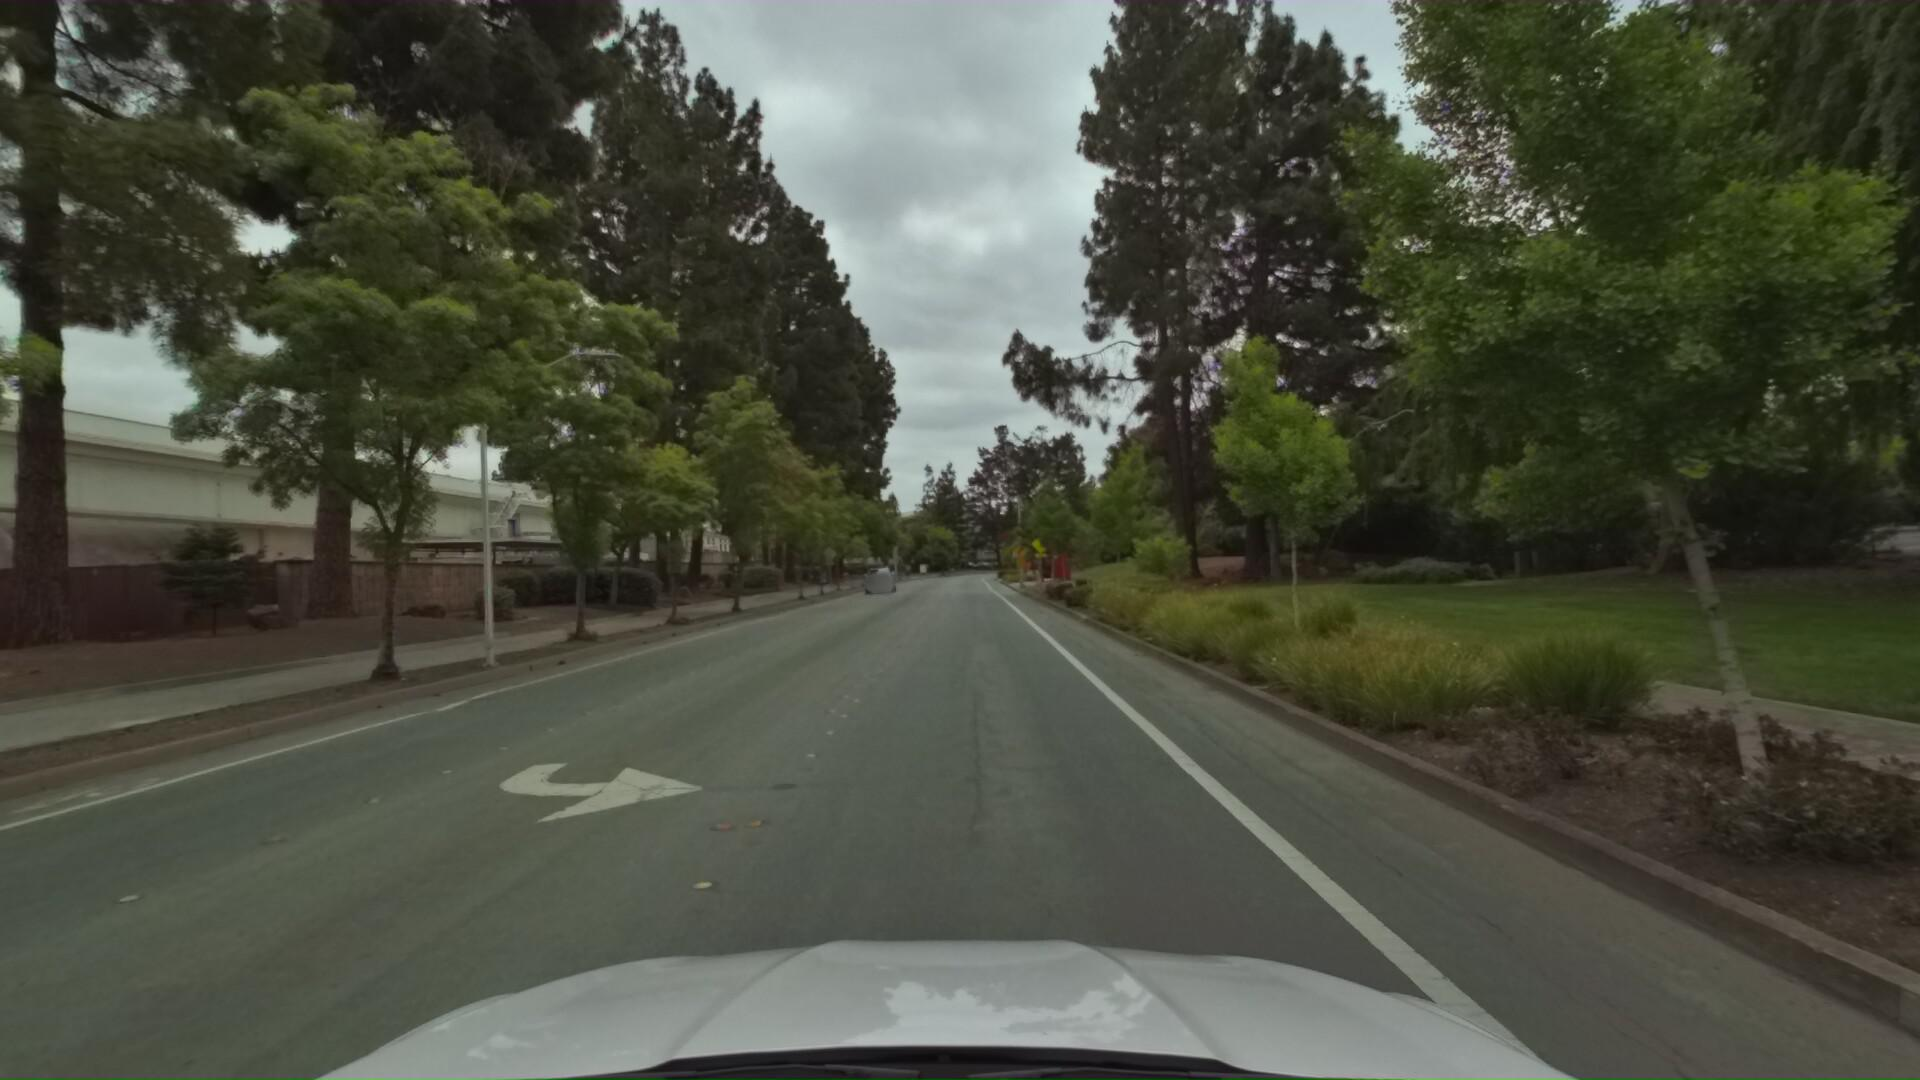car: (857, 564, 897, 597)
